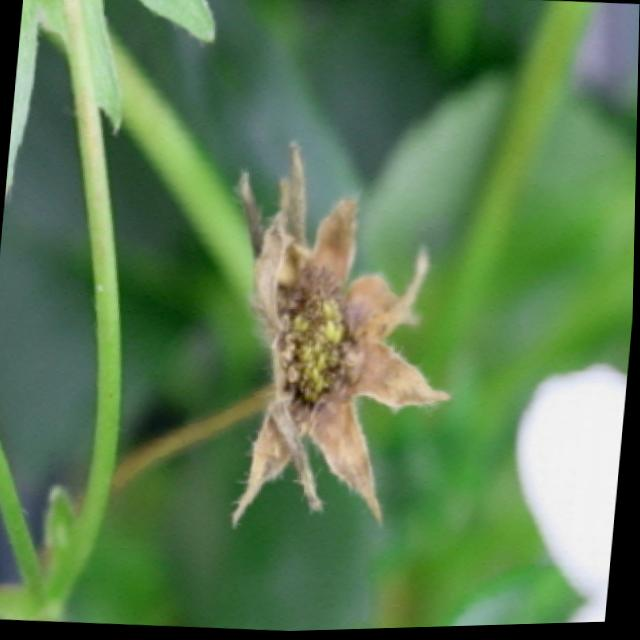Gray Mold: (231, 143, 450, 533)
